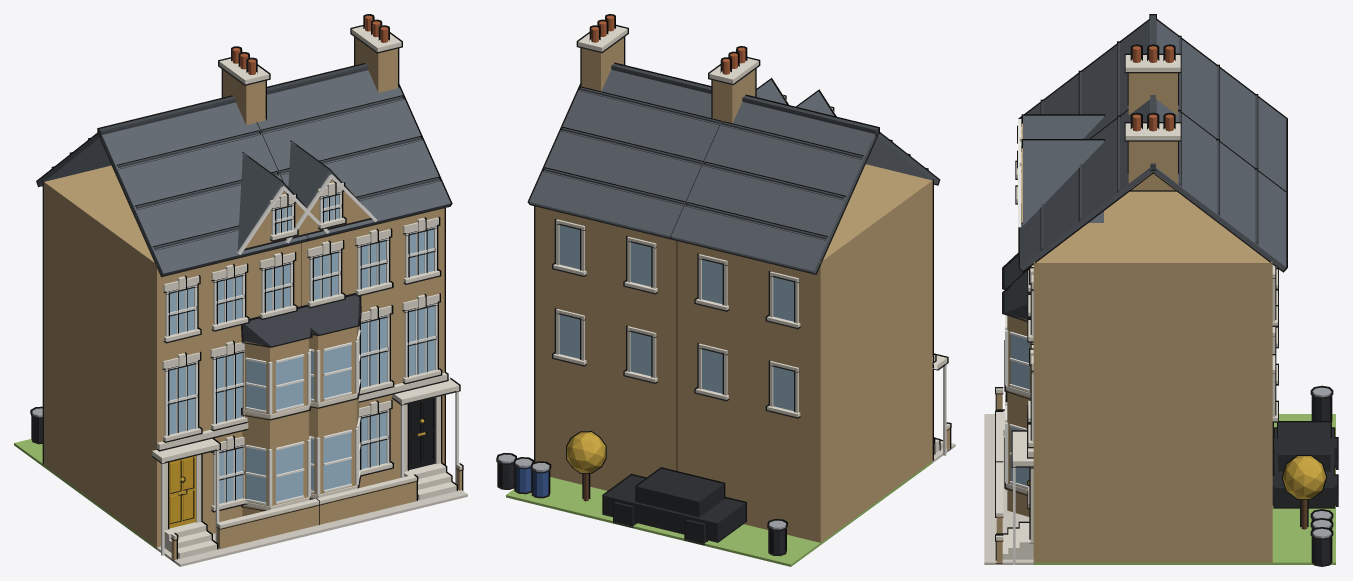
File: Blok_duz_3k_6.fbx
3 renders of one model, left to right at view 1: azimuth 30°, elevation 25°; view 2: azimuth 150°, elevation 25°; view 3: azimuth 270°, elevation 25°, orthographic. The views are drawn at different scales.
Parts seen in each view (by area): view 1: Blok_duz_3k_6; view 2: Blok_duz_3k_6; view 3: Blok_duz_3k_6.
Boxes of the visible parts, bbox=[...] form: Blok_duz_3k_6: bbox=[14, 14, 467, 566]; Blok_duz_3k_6: bbox=[496, 14, 955, 566]; Blok_duz_3k_6: bbox=[984, 14, 1338, 566].
Size of the model in its own units: 10.72 by 13.93 by 10.07.
